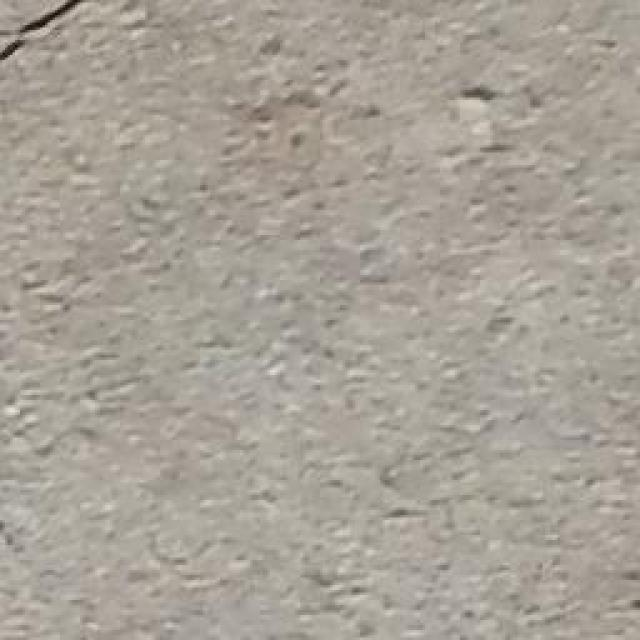concrete-crack: (1, 0, 93, 70)
